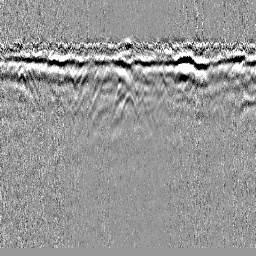cavity: (115, 91, 139, 124)
